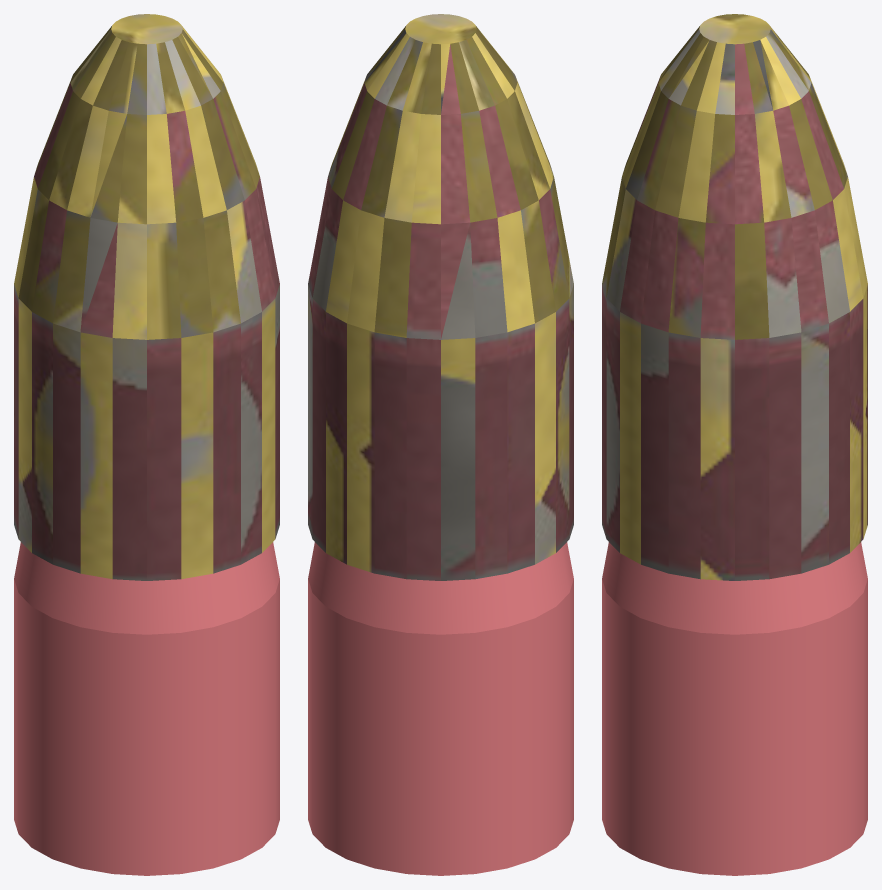
The model's file is ammo_sniper.glb.
3 renders of one model, left to right at view 1: azimuth 30°, elevation 25°; view 2: azimuth 150°, elevation 25°; view 3: azimuth 270°, elevation 25°, orthographic.
Parts seen in each view (by area): view 1: Group (×2); view 2: Group (×2); view 3: Group (×2).
Part boxes in pixels (x1,y1,x2,y2): Group (×2): [14, 14, 279, 875]; Group (×2): [308, 14, 573, 875]; Group (×2): [602, 14, 867, 875].
Bounding box in the file's own units: 0.0344 × 0.1129 × 0.0344.
2 materials, 1 textured.
